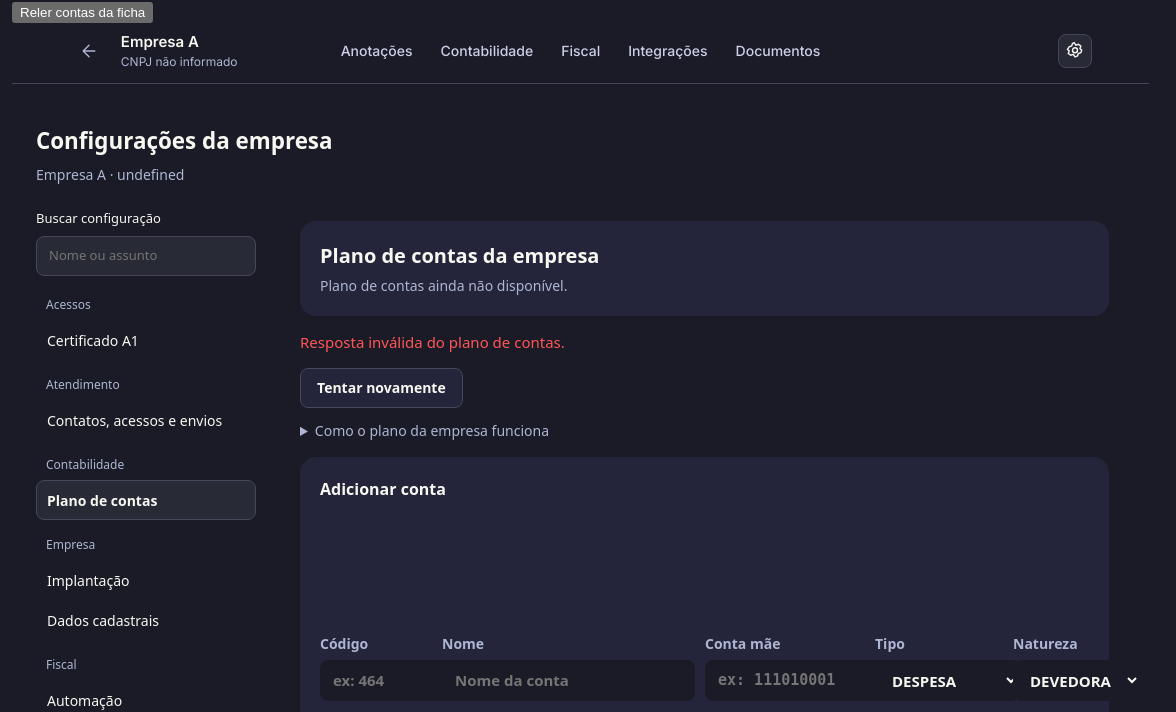
Test: falha inicial real não afirma vazio e permite recuperar
expect the message shows "Resposta inválida": met, box [300,332,565,352]
Click the button "Tentar novamente" at (381, 388), box [300,368,463,408]
(page scrolled)
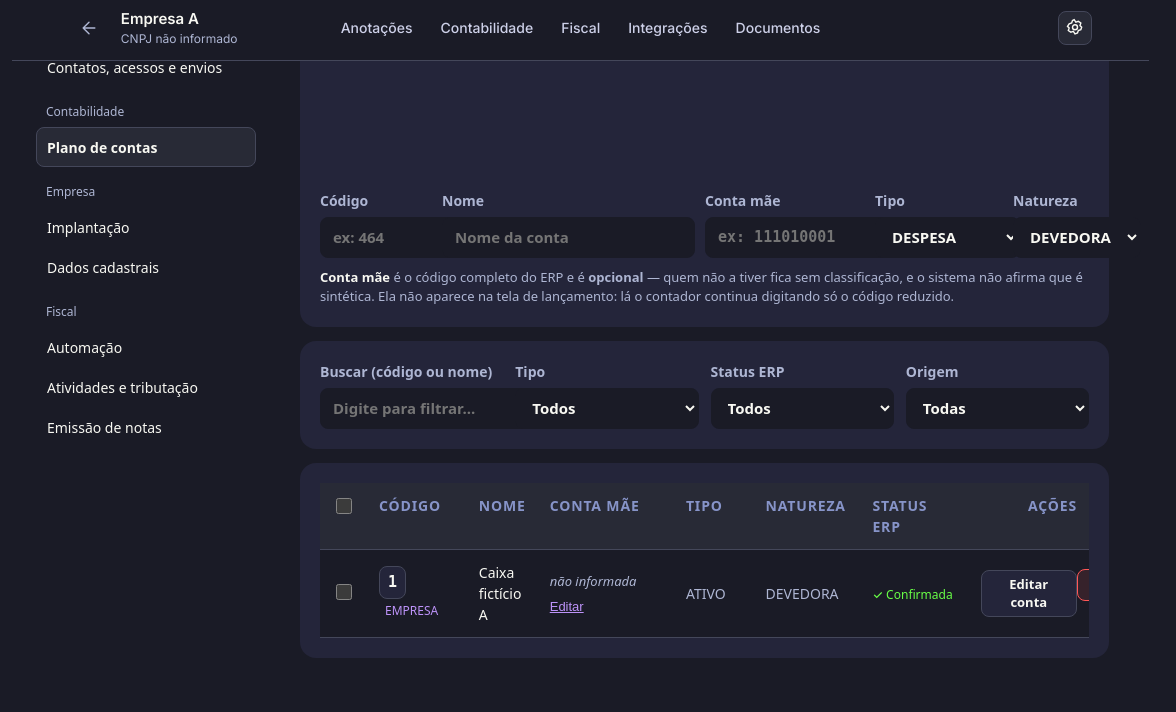
expect the text "Caixa fictício A" is shown: met, box [467,550,538,638]
expect the message "Resposta inválida do plano de contas. Tentar novamente" is gone: met
